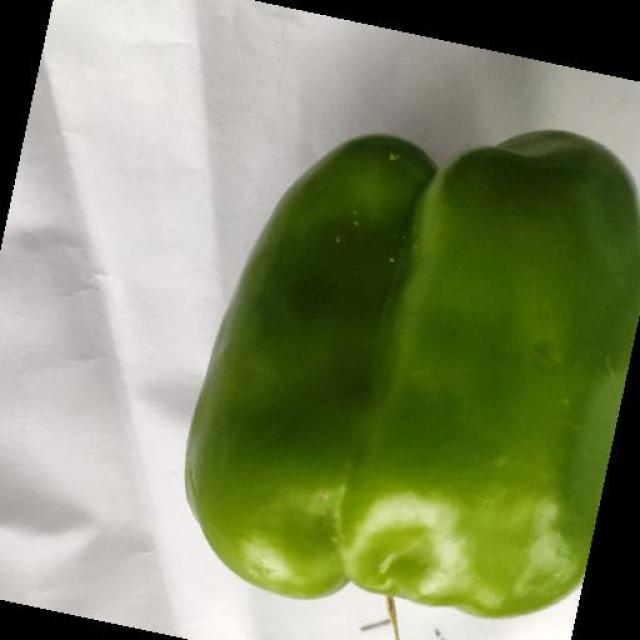Fresh_Capsicum: (204, 121, 640, 598)
